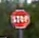stop: (9, 8, 30, 28)
